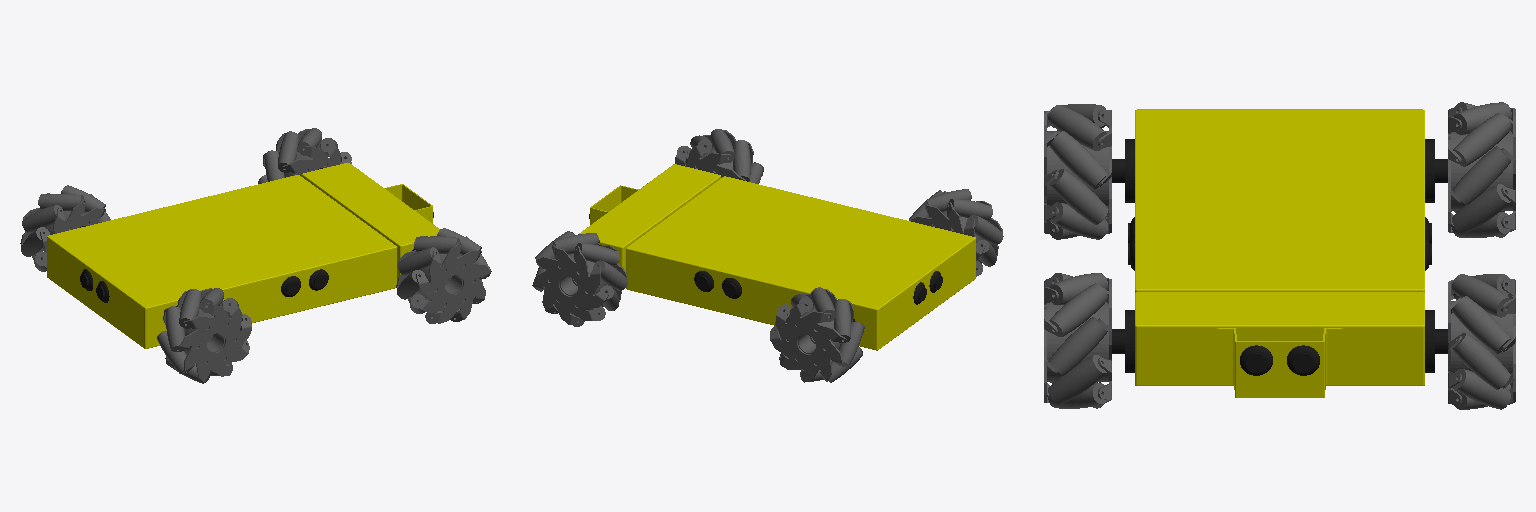
URDF robot description (nexus_4wd_mecanum):
<?xml version="1.0" ?>
<!-- =================================================================================== -->
<!-- |    This document was autogenerated by xacro from nexus_4wd_mecanum.xacro        | -->
<!-- |    EDITING THIS FILE BY HAND IS NOT RECOMMENDED                                 | -->
<!-- =================================================================================== -->
<robot name="nexus_4wd_mecanum" xmlns:xacro="http://ros.org/wiki/xacro">
  <material name="yellow">
    <color rgba="0.8 0.8 0.0 1.0"/>
  </material>
  <material name="black">
    <color rgba="0.15 0.15 0.15 1.0"/>
  </material>
  <material name="dark_grey">
    <color rgba="0.2 0.2 0.2 1.0"/>
  </material>
  <material name="light_grey">
    <color rgba="0.4 0.4 0.4 1.0"/>
  </material>
  <link name="base_footprint"/>
  <joint name="base_link_joint" type="fixed">
    <origin rpy="0 0 0" xyz="0 0 0.05"/>
    <parent link="base_footprint"/>
    <child link="base_link"/>
  </joint>
  <link name="base_link">
    <visual>
      <origin rpy="0 0 0" xyz="0 0 0"/>
      <geometry>
        <mesh filename="package://nexus_4wd_mecanum_description/meshes/nexus_base_link.STL" scale="0.001 0.001 0.001"/>
      </geometry>
      <material name="yellow"/>
    </visual>
    <collision>
      <origin xyz="0 0 0"/>
      <geometry>
        <mesh filename="package://nexus_4wd_mecanum_description/meshes/nexus_base_link_collision.STL" scale="0.001 0.001 0.001"/>
      </geometry>
    </collision>
    <inertial>
      <!-- Inertia from CAD model, filled box assumption -->
      <origin rpy="0 0 0" xyz="-0.01103 0 0.002"/>
      <mass value="2.844"/>
      <inertia ixx="0.018819942" ixy="0" ixz="-0.000101519" iyy="0.057333716" iyz="0" izz="0.074201740"/>
    </inertial>
  </link>
  <joint name="upper_left_wheel_shaft_joint" type="fixed">
    <origin rpy="0 0 0" xyz="0.150 0.108 0.0"/>
    <parent link="base_link"/>
    <child link="upper_left_wheel_shaft"/>
  </joint>
  <link name="upper_left_wheel_shaft">
    <visual>
      <origin rpy="0 0 0" xyz="0 0 0"/>
      <geometry>
        <mesh filename="package://nexus_4wd_mecanum_description/meshes/wheel_shaft.STL" scale="0.001 0.001 0.001"/>
      </geometry>
      <material name="black"/>
    </visual>
    <collision>
      <origin xyz="0 0 0"/>
      <geometry>
        <mesh filename="package://nexus_4wd_mecanum_description/meshes/wheel_shaft.STL" scale="0.001 0.001 0.001"/>
      </geometry>
    </collision>
    <inertial>
      <origin rpy="0 0 0" xyz="0 0.01221 0"/>
      <mass value="0.055"/>
      <inertia ixx="0.000021370" ixy="0" ixz="0" iyy="0.000009966" iyz="0" izz="0.000021370"/>
    </inertial>
  </link>
  <joint name="lower_left_wheel_shaft_joint" type="fixed">
    <origin rpy="0 0 0" xyz="-0.150 0.108 0.0"/>
    <parent link="base_link"/>
    <child link="lower_left_wheel_shaft"/>
  </joint>
  <link name="lower_left_wheel_shaft">
    <visual>
      <origin rpy="0 0 0" xyz="0 0 0"/>
      <geometry>
        <mesh filename="package://nexus_4wd_mecanum_description/meshes/wheel_shaft.STL" scale="0.001 0.001 0.001"/>
      </geometry>
      <material name="black"/>
    </visual>
    <collision>
      <origin xyz="0 0 0"/>
      <geometry>
        <mesh filename="package://nexus_4wd_mecanum_description/meshes/wheel_shaft.STL" scale="0.001 0.001 0.001"/>
      </geometry>
    </collision>
    <inertial>
      <origin rpy="0 0 0" xyz="0 0.01221 0"/>
      <mass value="0.055"/>
      <inertia ixx="0.000021370" ixy="0" ixz="0" iyy="0.000009966" iyz="0" izz="0.000021370"/>
    </inertial>
  </link>
  <joint name="upper_right_wheel_shaft_joint" type="fixed">
    <origin rpy="3.14159265359 0 0" xyz="0.150 -0.108 0.0"/>
    <parent link="base_link"/>
    <child link="upper_right_wheel_shaft"/>
  </joint>
  <link name="upper_right_wheel_shaft">
    <visual>
      <origin rpy="0 0 0" xyz="0 0 0"/>
      <geometry>
        <mesh filename="package://nexus_4wd_mecanum_description/meshes/wheel_shaft.STL" scale="0.001 0.001 0.001"/>
      </geometry>
      <material name="black"/>
    </visual>
    <collision>
      <origin xyz="0 0 0"/>
      <geometry>
        <mesh filename="package://nexus_4wd_mecanum_description/meshes/wheel_shaft.STL" scale="0.001 0.001 0.001"/>
      </geometry>
    </collision>
    <inertial>
      <origin rpy="0 0 0" xyz="0 0.01221 0"/>
      <mass value="0.055"/>
      <inertia ixx="0.000021370" ixy="0" ixz="0" iyy="0.000009966" iyz="0" izz="0.000021370"/>
    </inertial>
  </link>
  <joint name="lower_right_wheel_shaft_joint" type="fixed">
    <origin rpy="3.14159265359 0 0" xyz="-0.150 -0.108 0.0"/>
    <parent link="base_link"/>
    <child link="lower_right_wheel_shaft"/>
  </joint>
  <link name="lower_right_wheel_shaft">
    <visual>
      <origin rpy="0 0 0" xyz="0 0 0"/>
      <geometry>
        <mesh filename="package://nexus_4wd_mecanum_description/meshes/wheel_shaft.STL" scale="0.001 0.001 0.001"/>
      </geometry>
      <material name="black"/>
    </visual>
    <collision>
      <origin xyz="0 0 0"/>
      <geometry>
        <mesh filename="package://nexus_4wd_mecanum_description/meshes/wheel_shaft.STL" scale="0.001 0.001 0.001"/>
      </geometry>
    </collision>
    <inertial>
      <origin rpy="0 0 0" xyz="0 0.01221 0"/>
      <mass value="0.055"/>
      <inertia ixx="0.000021370" ixy="0" ixz="0" iyy="0.000009966" iyz="0" izz="0.000021370"/>
    </inertial>
  </link>
  <joint name="upper_left_wheel_joint" type="continuous">
    <origin rpy="0 0 0" xyz="0 0.042 0"/>
    <parent link="upper_left_wheel_shaft"/>
    <child link="upper_left_wheel"/>
    <axis xyz="0 1 0"/>
  </joint>
  <link name="upper_left_wheel">
    <visual>
      <origin rpy="0 0 0" xyz="0 0 0"/>
      <geometry>
        <mesh filename="package://nexus_4wd_mecanum_description/meshes/mecanum_wheel_left.STL" scale="0.001 0.001 0.001"/>
      </geometry>
      <material name="light_grey"/>
    </visual>
    <collision>
      <origin rpy="1.57079632679 0 0" xyz="0 0 0"/>
      <geometry>
        <cylinder length="0.0505" radius="0.05"/>
      </geometry>
    </collision>
    <inertial>
      <origin rpy="0 0 0" xyz="0.0 0.0 0.0"/>
      <mass value="0.3844"/>
      <!-- Inertia based on cylinder -->
      <inertia ixx="0.000324824" ixy="0" ixz="0" iyy="0.000480000" iyz="0" izz="0.000324824"/>
    </inertial>
  </link>
  <joint name="lower_left_wheel_joint" type="continuous">
    <origin rpy="0 0 0" xyz="0 0.042 0"/>
    <parent link="lower_left_wheel_shaft"/>
    <child link="lower_left_wheel"/>
    <axis xyz="0 1 0"/>
  </joint>
  <link name="lower_left_wheel">
    <visual>
      <origin rpy="0 0 0" xyz="0 0 0"/>
      <geometry>
        <mesh filename="package://nexus_4wd_mecanum_description/meshes/mecanum_wheel_right.STL" scale="0.001 0.001 0.001"/>
      </geometry>
      <material name="light_grey"/>
    </visual>
    <collision>
      <origin rpy="1.57079632679 0 0" xyz="0 0 0"/>
      <geometry>
        <cylinder length="0.0505" radius="0.05"/>
      </geometry>
    </collision>
    <inertial>
      <origin rpy="0 0 0" xyz="0.0 0.0 0.0"/>
      <mass value="0.3844"/>
      <!-- Inertia based on cylinder -->
      <inertia ixx="0.000324824" ixy="0" ixz="0" iyy="0.000480000" iyz="0" izz="0.000324824"/>
    </inertial>
  </link>
  <joint name="upper_right_wheel_joint" type="continuous">
    <origin rpy="0 0 0" xyz="0 0.042 0"/>
    <parent link="upper_right_wheel_shaft"/>
    <child link="upper_right_wheel"/>
    <axis xyz="0 1 0"/>
  </joint>
  <link name="upper_right_wheel">
    <visual>
      <origin rpy="0 0 0" xyz="0 0 0"/>
      <geometry>
        <mesh filename="package://nexus_4wd_mecanum_description/meshes/mecanum_wheel_right.STL" scale="0.001 0.001 0.001"/>
      </geometry>
      <material name="light_grey"/>
    </visual>
    <collision>
      <origin rpy="1.57079632679 0 0" xyz="0 0 0"/>
      <geometry>
        <cylinder length="0.0505" radius="0.05"/>
      </geometry>
    </collision>
    <inertial>
      <origin rpy="0 0 0" xyz="0.0 0.0 0.0"/>
      <mass value="0.3844"/>
      <!-- Inertia based on cylinder -->
      <inertia ixx="0.000324824" ixy="0" ixz="0" iyy="0.000480000" iyz="0" izz="0.000324824"/>
    </inertial>
  </link>
  <joint name="lower_right_wheel_joint" type="continuous">
    <origin rpy="0 0 0" xyz="0 0.042 0"/>
    <parent link="lower_right_wheel_shaft"/>
    <child link="lower_right_wheel"/>
    <axis xyz="0 1 0"/>
  </joint>
  <link name="lower_right_wheel">
    <visual>
      <origin rpy="0 0 0" xyz="0 0 0"/>
      <geometry>
        <mesh filename="package://nexus_4wd_mecanum_description/meshes/mecanum_wheel_left.STL" scale="0.001 0.001 0.001"/>
      </geometry>
      <material name="light_grey"/>
    </visual>
    <collision>
      <origin rpy="1.57079632679 0 0" xyz="0 0 0"/>
      <geometry>
        <cylinder length="0.0505" radius="0.05"/>
      </geometry>
    </collision>
    <inertial>
      <origin rpy="0 0 0" xyz="0.0 0.0 0.0"/>
      <mass value="0.3844"/>
      <!-- Inertia based on cylinder -->
      <inertia ixx="0.000324824" ixy="0" ixz="0" iyy="0.000480000" iyz="0" izz="0.000324824"/>
    </inertial>
  </link>
  <joint name="left_sensor_joint" type="fixed">
    <origin rpy="0 0 1.57079632679" xyz="0 0.108 0.010"/>
    <parent link="base_link"/>
    <child link="left_sensor"/>
  </joint>
  <link name="left_sensor">
    <visual>
      <origin rpy="1.57079632679 0 0" xyz="0 0 0"/>
      <geometry>
        <mesh filename="package://nexus_4wd_mecanum_description/meshes/urm04.STL" scale="0.001 0.001 0.001"/>
      </geometry>
      <material name="black"/>
    </visual>
  </link>
  <joint name="front_sensor_joint" type="fixed">
    <origin rpy="0 0 0" xyz="0.205 0 0.010"/>
    <parent link="base_link"/>
    <child link="front_sensor"/>
  </joint>
  <link name="front_sensor">
    <visual>
      <origin rpy="1.57079632679 0 0" xyz="0 0 0"/>
      <geometry>
        <mesh filename="package://nexus_4wd_mecanum_description/meshes/urm04.STL" scale="0.001 0.001 0.001"/>
      </geometry>
      <material name="black"/>
    </visual>
  </link>
  <joint name="right_sensor_joint" type="fixed">
    <origin rpy="0 0 -1.57079632679" xyz="0 -0.108 0.010"/>
    <parent link="base_link"/>
    <child link="right_sensor"/>
  </joint>
  <link name="right_sensor">
    <visual>
      <origin rpy="1.57079632679 0 0" xyz="0 0 0"/>
      <geometry>
        <mesh filename="package://nexus_4wd_mecanum_description/meshes/urm04.STL" scale="0.001 0.001 0.001"/>
      </geometry>
      <material name="black"/>
    </visual>
  </link>
  <joint name="rear_sensor_joint" type="fixed">
    <origin rpy="0 0 3.14159265359" xyz="-0.201 0 0.010"/>
    <parent link="base_link"/>
    <child link="rear_sensor"/>
  </joint>
  <link name="rear_sensor">
    <visual>
      <origin rpy="1.57079632679 0 0" xyz="0 0 0"/>
      <geometry>
        <mesh filename="package://nexus_4wd_mecanum_description/meshes/urm04.STL" scale="0.001 0.001 0.001"/>
      </geometry>
      <material name="black"/>
    </visual>
  </link>
  <gazebo>
    <!--<plugin name="gazebo_ros_control" filename="libgazebo_ros_control.so">
      <robotNamespace>/</robotNamespace>
    </plugin>-->
    <plugin filename="libnexus_ros_force_based_move.so" name="nexus_ros_force_based_move">
      <commandTopic>cmd_vel</commandTopic>
      <odometryTopic>odom</odometryTopic>
      <odometryFrame>odom</odometryFrame>
      <odometryRate>25.0</odometryRate>
      <robotBaseFrame>base_footprint</robotBaseFrame>
      <cmdVelTimeOut>0.25</cmdVelTimeOut>
      <publishOdometryTf>0</publishOdometryTf>
      <yaw_velocity_p_gain>1.0</yaw_velocity_p_gain>
      <x_velocity_p_gain>15.0</x_velocity_p_gain>
      <y_velocity_p_gain>15.0</y_velocity_p_gain>
      <max_x_velocity>0.6</max_x_velocity>
      <max_y_velocity>0.6</max_y_velocity>
      <max_yaw_velocity>0.5</max_yaw_velocity>
    </plugin>
  </gazebo>
  <!-- All static links get collapsed down to base_link in Gazebo, so that's
       the one to apply the colour to (in Gazebo 5+). -->
  <gazebo reference="base_footprint">
    <material>Gazebo/Yellow</material>
    <gravity>true</gravity>
  </gazebo>
  <gazebo reference="base_link">
    <material>Gazebo/Yellow</material>
  </gazebo>
  <gazebo reference="left_sensor">
    <material>Gazebo/Black</material>
  </gazebo>
  <gazebo reference="front_sensor">
    <material>Gazebo/Black</material>
  </gazebo>
  <gazebo reference="right_sensor">
    <material>Gazebo/Black</material>
  </gazebo>
  <gazebo reference="rear_sensor">
    <material>Gazebo/Black</material>
  </gazebo>
  <gazebo reference="upper_left_wheel_shaft">
    <material>Gazebo/Black</material>
  </gazebo>
  <gazebo reference="lower_left_wheel_shaft">
    <material>Gazebo/Black</material>
  </gazebo>
  <gazebo reference="upper_right_wheel_shaft">
    <material>Gazebo/Black</material>
  </gazebo>
  <gazebo reference="lower_right_wheel_shaft">
    <material>Gazebo/Black</material>
  </gazebo>
  <!-- Wheel friction to zero, as movement is handled by applying forces at the body level. -->
  <gazebo reference="upper_left_wheel">
    <material>Gazebo/Grey</material>
    <mu1>0.0</mu1>
    <mu2>0.0</mu2>
  </gazebo>
  <gazebo reference="lower_left_wheel">
    <material>Gazebo/Grey</material>
    <mu1>0.0</mu1>
    <mu2>0.0</mu2>
  </gazebo>
  <gazebo reference="upper_right_wheel">
    <material>Gazebo/Grey</material>
    <mu1>0.0</mu1>
    <mu2>0.0</mu2>
  </gazebo>
  <gazebo reference="lower_right_wheel">
    <material>Gazebo/Grey</material>
    <mu1>0.0</mu1>
    <mu2>0.0</mu2>
  </gazebo>
  <gazebo reference="front_sensor">
    <sensor name="front_sensor" type="ray">
      <always_on>true</always_on>
      <update_rate>10</update_rate>
      <pose>0 0 0 0 0 0</pose>
      <visualize>true</visualize>
      <ray>
        <scan>
          <horizontal>
            <samples>2</samples>
            <resolution>1</resolution>
            <min_angle>-0.52</min_angle>
            <max_angle> 0.52</max_angle>
          </horizontal>
          <vertical>
            <samples>2</samples>
            <resolution>1</resolution>
            <min_angle>-0.02</min_angle>
            <max_angle> 0.02</max_angle>
          </vertical>
        </scan>
        <range>
          <min>0.04</min>
          <max>2.5</max>
          <resolution>0.01</resolution>
        </range>
      </ray>
      <plugin filename="libhector_gazebo_ros_sonar.so" name="gazebo_ros_front_sensor">
        <gaussianNoise>0.005</gaussianNoise>
        <topicName>front_sensor</topicName>
        <frameId>front_sensor</frameId>
      </plugin>
    </sensor>
  </gazebo>
  <gazebo reference="left_sensor">
    <sensor name="left_sensor" type="ray">
      <always_on>true</always_on>
      <update_rate>10</update_rate>
      <pose>0 0 0 0 0 0</pose>
      <visualize>true</visualize>
      <ray>
        <scan>
          <horizontal>
            <samples>2</samples>
            <resolution>1</resolution>
            <min_angle>-0.52</min_angle>
            <max_angle> 0.52</max_angle>
          </horizontal>
          <vertical>
            <samples>2</samples>
            <resolution>1</resolution>
            <min_angle>-0.02</min_angle>
            <max_angle> 0.02</max_angle>
          </vertical>
        </scan>
        <range>
          <min>0.04</min>
          <max>2.5</max>
          <resolution>0.01</resolution>
        </range>
      </ray>
      <plugin filename="libhector_gazebo_ros_sonar.so" name="gazebo_ros_left_sensor">
        <gaussianNoise>0.005</gaussianNoise>
        <topicName>left_sensor</topicName>
        <frameId>left_sensor</frameId>
      </plugin>
    </sensor>
  </gazebo>
  <gazebo reference="right_sensor">
    <sensor name="right_sensor" type="ray">
      <always_on>true</always_on>
      <update_rate>10</update_rate>
      <pose>0 0 0 0 0 0</pose>
      <visualize>true</visualize>
      <ray>
        <scan>
          <horizontal>
            <samples>2</samples>
            <resolution>1</resolution>
            <min_angle>-0.52</min_angle>
            <max_angle> 0.52</max_angle>
          </horizontal>
          <vertical>
            <samples>2</samples>
            <resolution>1</resolution>
            <min_angle>-0.02</min_angle>
            <max_angle> 0.02</max_angle>
          </vertical>
        </scan>
        <range>
          <min>0.04</min>
          <max>2.5</max>
          <resolution>0.01</resolution>
        </range>
      </ray>
      <plugin filename="libhector_gazebo_ros_sonar.so" name="gazebo_ros_right_sensor">
        <gaussianNoise>0.005</gaussianNoise>
        <topicName>right_sensor</topicName>
        <frameId>right_sensor</frameId>
      </plugin>
    </sensor>
  </gazebo>
  <gazebo reference="rear_sensor">
    <sensor name="rear_sensor" type="ray">
      <always_on>true</always_on>
      <update_rate>10</update_rate>
      <pose>0 0 0 0 0 0</pose>
      <visualize>true</visualize>
      <ray>
        <scan>
          <horizontal>
            <samples>2</samples>
            <resolution>1</resolution>
            <min_angle>-0.52</min_angle>
            <max_angle> 0.52</max_angle>
          </horizontal>
          <vertical>
            <samples>2</samples>
            <resolution>1</resolution>
            <min_angle>-0.02</min_angle>
            <max_angle> 0.02</max_angle>
          </vertical>
        </scan>
        <range>
          <min>0.04</min>
          <max>2.5</max>
          <resolution>0.01</resolution>
        </range>
      </ray>
      <plugin filename="libhector_gazebo_ros_sonar.so" name="gazebo_ros_rear_sensor">
        <gaussianNoise>0.005</gaussianNoise>
        <topicName>rear_sensor</topicName>
        <frameId>rear_sensor</frameId>
      </plugin>
    </sensor>
  </gazebo>
</robot>

--- What the picture shows (computed from the rendered views, not written in the file) ---
Views: 3 orthographic renders of the robot side by side, from view 1: azimuth 30°, elevation 25°; view 2: azimuth 150°, elevation 25°; view 3: azimuth 270°, elevation 25°.
Model nexus_4wd_mecanum with 14 links and 13 joints (4 continuous, 9 fixed), rooted at base_footprint, posed every joint at zero.
Visible links, largest first — view 1: base_link, lower_right_wheel, upper_right_wheel, lower_left_wheel, upper_left_wheel, right_sensor; view 2: base_link, lower_left_wheel, upper_left_wheel, lower_right_wheel, upper_right_wheel, left_sensor; view 3: base_link, upper_left_wheel, upper_right_wheel, lower_left_wheel, lower_right_wheel, front_sensor, upper_left_wheel_shaft, upper_right_wheel_shaft, lower_left_wheel_shaft, lower_right_wheel_shaft.
Boxes of the visible links, bbox=[...] form: base_link: bbox=[47, 163, 439, 348]; lower_right_wheel: bbox=[157, 288, 251, 383]; upper_right_wheel: bbox=[396, 228, 491, 323]; lower_left_wheel: bbox=[20, 185, 110, 271]; upper_left_wheel: bbox=[258, 128, 351, 183]; right_sensor: bbox=[281, 269, 328, 296]; base_link: bbox=[579, 164, 975, 350]; lower_left_wheel: bbox=[770, 287, 864, 382]; upper_left_wheel: bbox=[532, 231, 627, 326]; lower_right_wheel: bbox=[909, 189, 1003, 276]; upper_right_wheel: bbox=[675, 129, 763, 183]; left_sensor: bbox=[694, 271, 741, 298]; base_link: bbox=[1135, 109, 1424, 397]; upper_left_wheel: bbox=[1448, 274, 1515, 409]; upper_right_wheel: bbox=[1044, 273, 1111, 408]; lower_left_wheel: bbox=[1448, 102, 1515, 237]; lower_right_wheel: bbox=[1044, 104, 1111, 239]; front_sensor: bbox=[1240, 345, 1319, 375]; upper_left_wheel_shaft: bbox=[1425, 310, 1447, 372]; upper_right_wheel_shaft: bbox=[1112, 310, 1134, 372]; lower_left_wheel_shaft: bbox=[1425, 139, 1447, 202]; lower_right_wheel_shaft: bbox=[1112, 139, 1134, 202].
Size in the robot's own frame: 0.416 by 0.35 by 0.1019 metres.
Meshes: 5 distinct files referenced, 13 mesh visuals loaded (5 binary STL).
